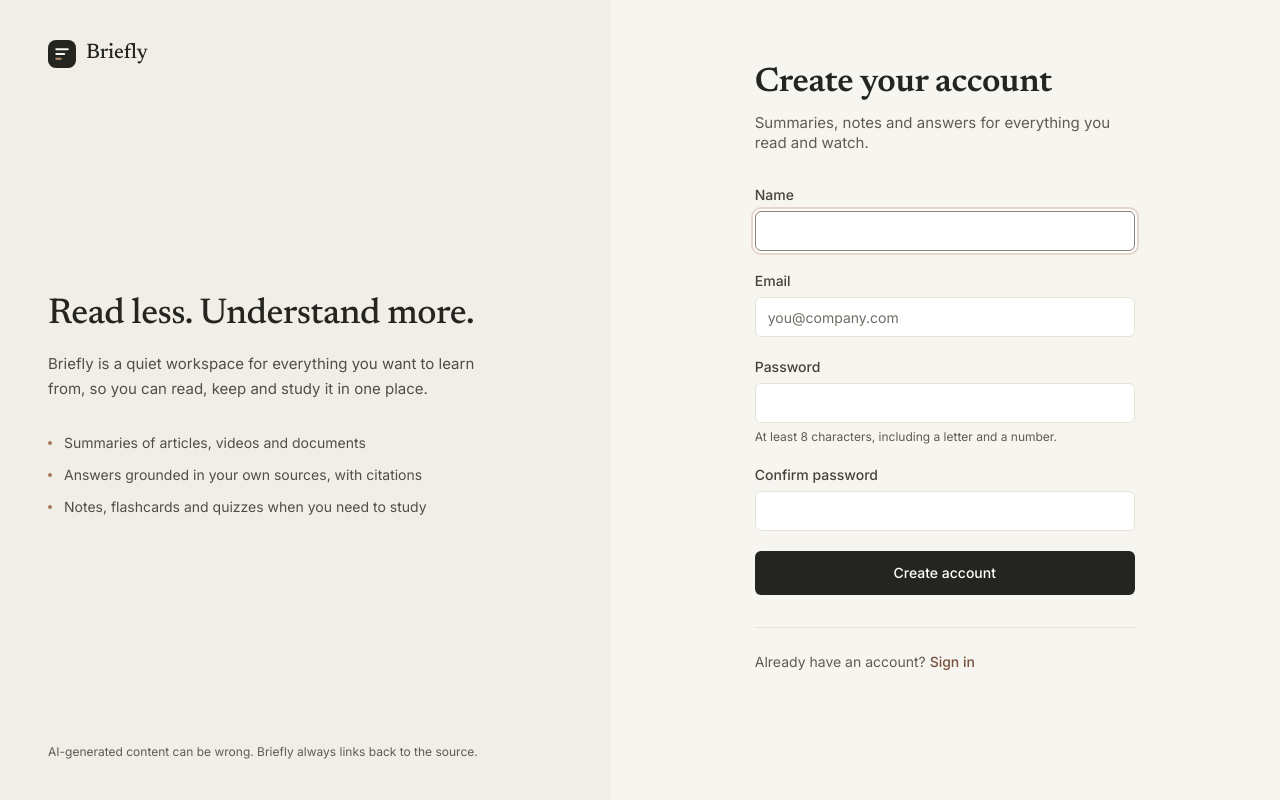
Test: Register form › rejects mismatched passwords
The width and height of the screenshot is (1280, 800).
Type "Ada Lovelace" into the field labelled "Name".
click(945, 231); type("Ada Lovelace")  # box [755,211,1135,251]
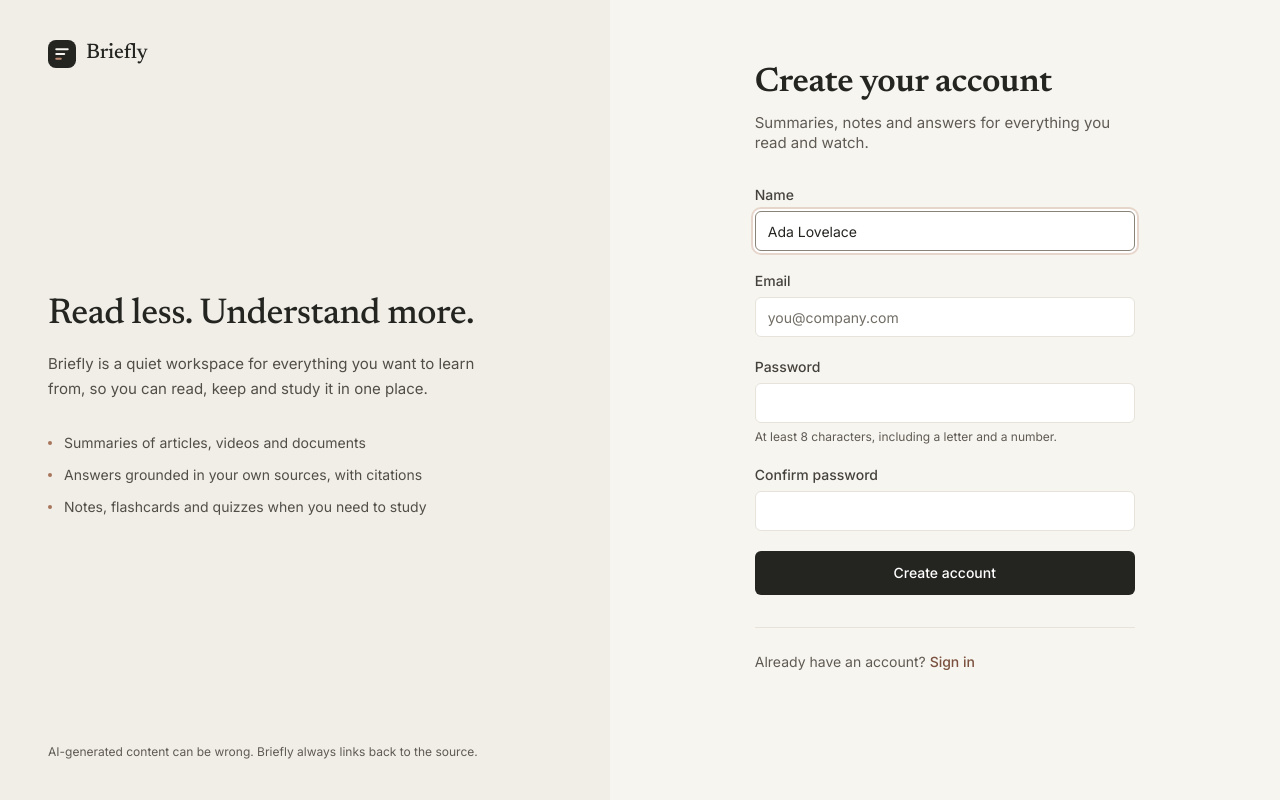
Type "ada@example.com" into the field labelled "Email".
click(945, 317); type("ada@example.com")  # box [755,297,1135,337]
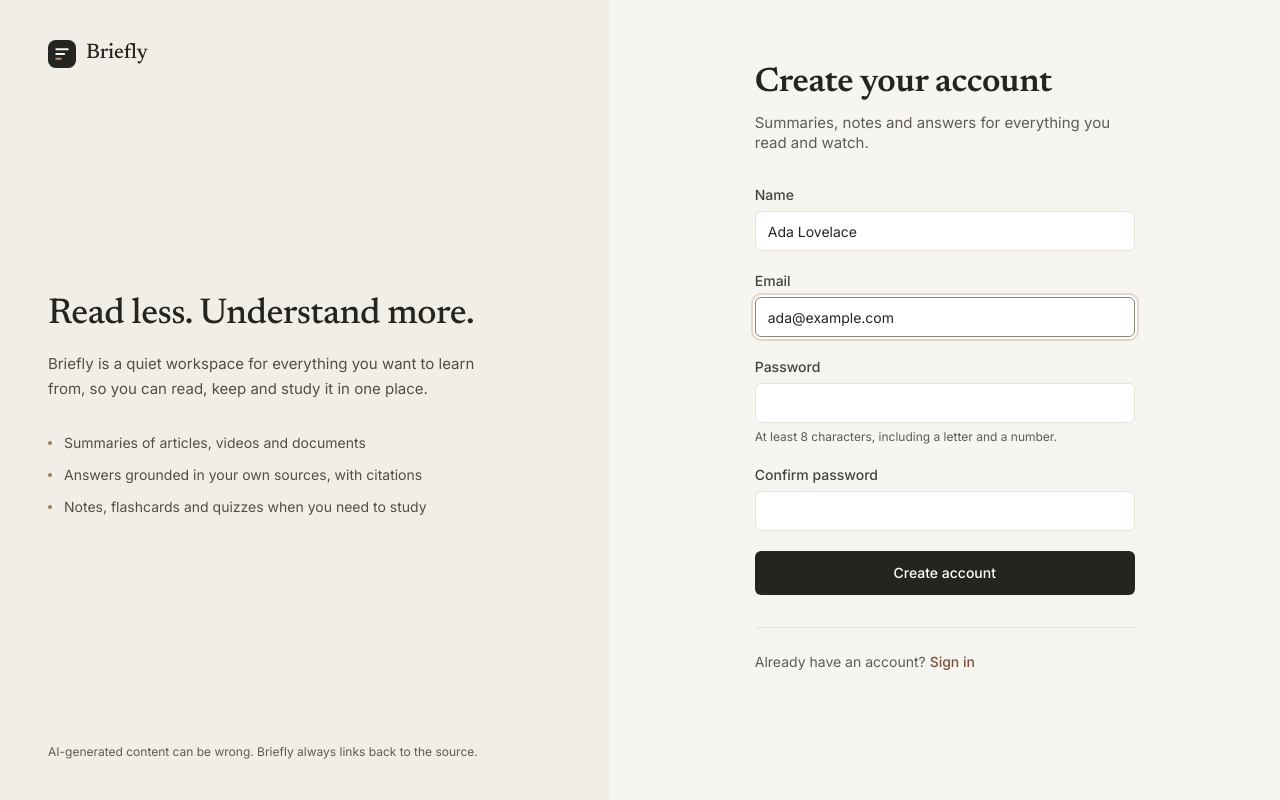
Type "analytical1" into the password field labelled "Password".
click(945, 403); type("analytical1")  # box [755,383,1135,423]
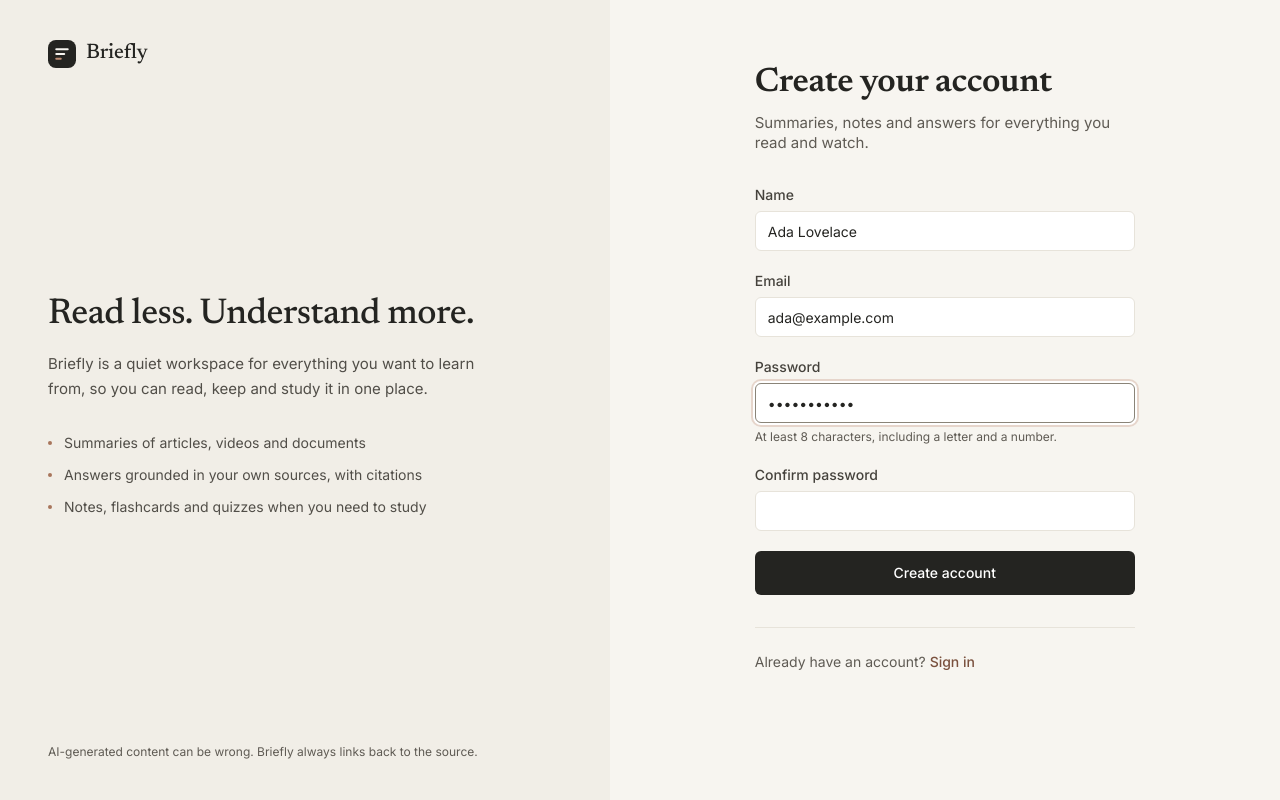
Type "different1" into the password field labelled "Confirm password".
click(945, 511); type("different1")  # box [755,491,1135,531]
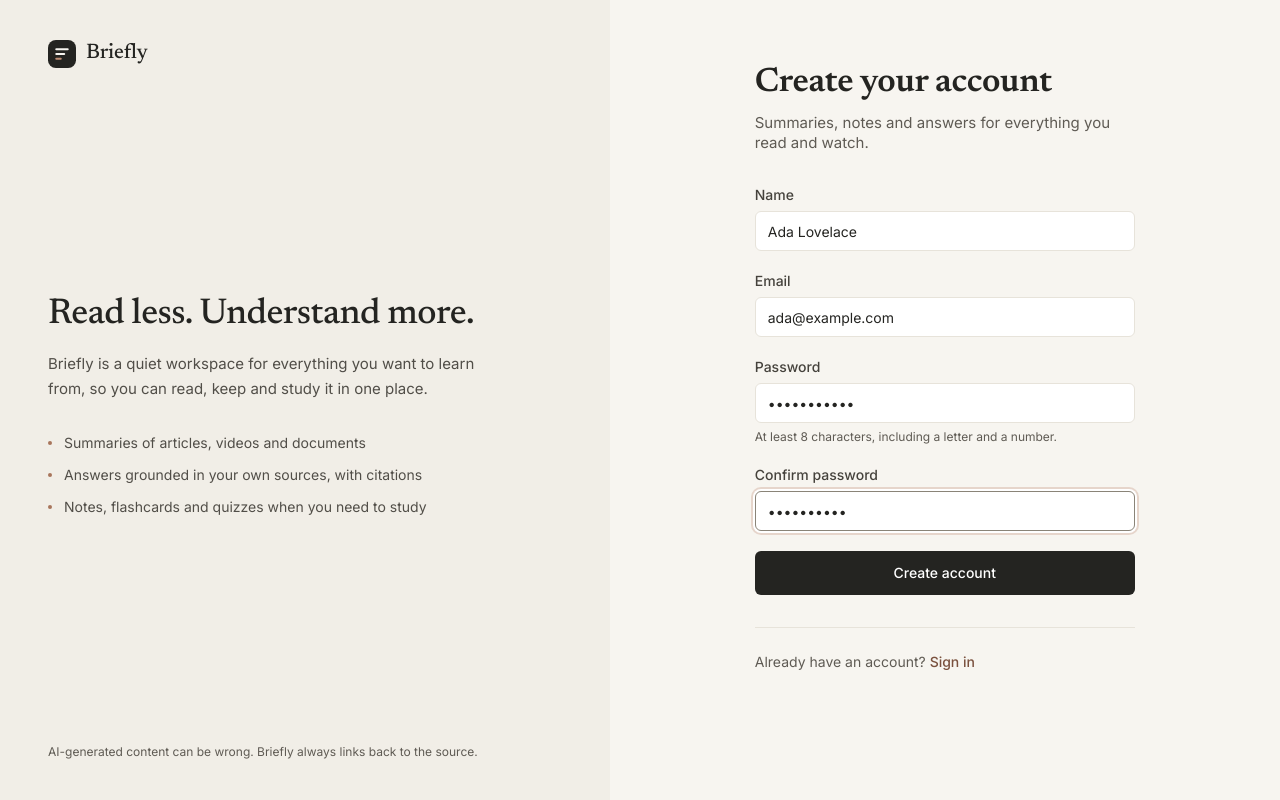
Click the button "Create account".
click(945, 573)  # box [755,551,1135,595]
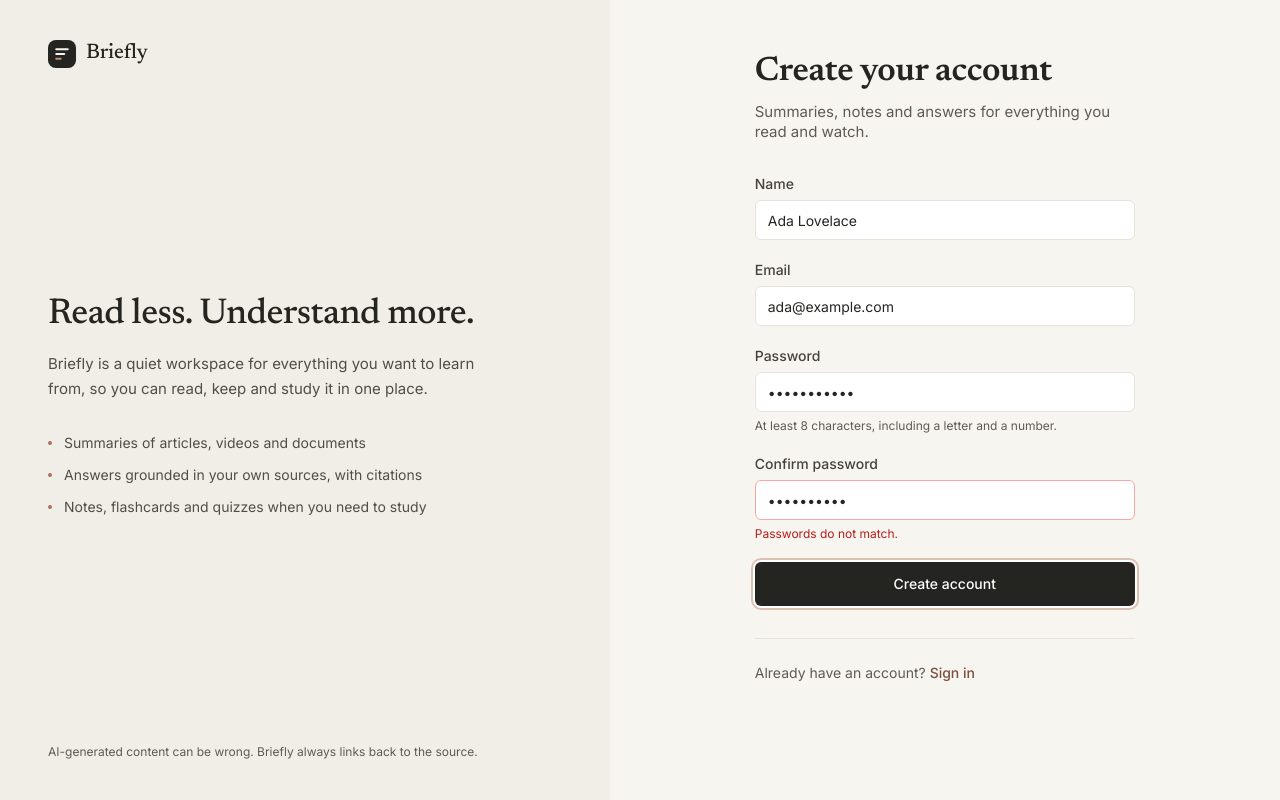
Expected: the text "Passwords do not match." is shown, [755,526,898,541]
